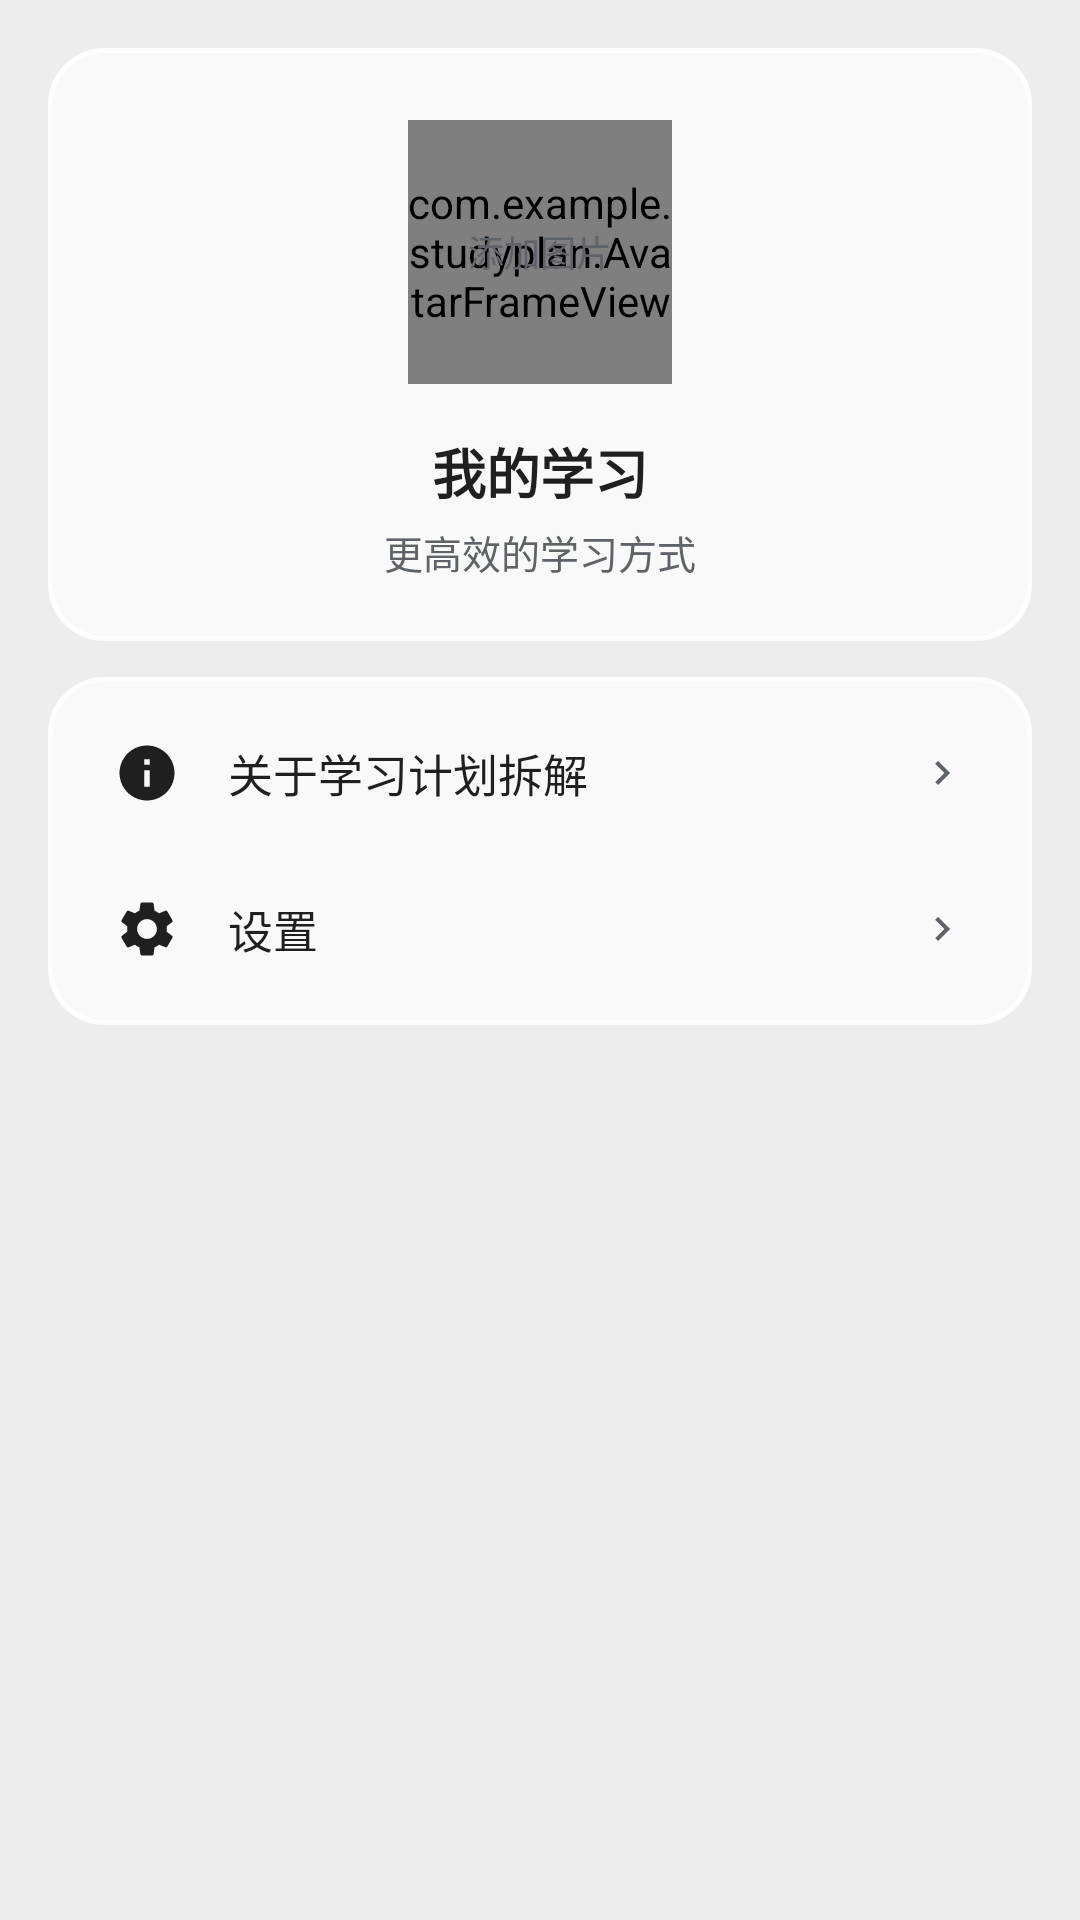

Icon click points for this 1080 × 1920 phone screenshot, format [x,y]:
about: [147,773]
arrow right: [942,773], [942,929]
setting: [147,929]
